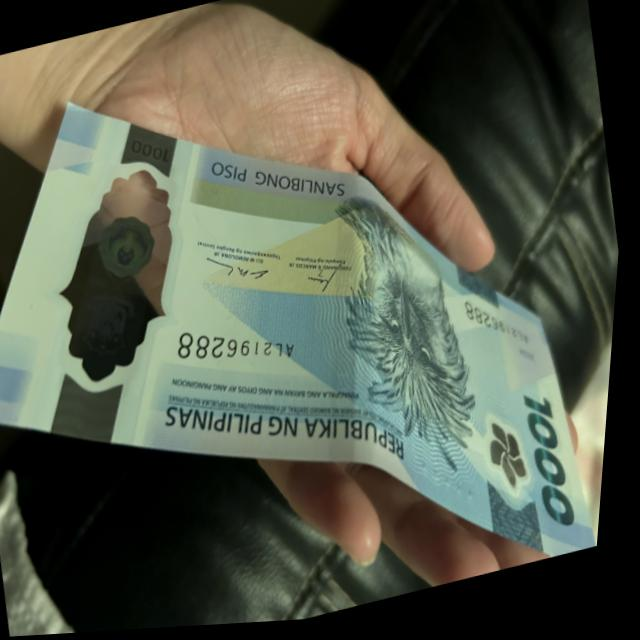clear_window: (33, 154, 210, 392)
eagle: (315, 201, 499, 461)
sampaguita: (484, 425, 541, 500)
